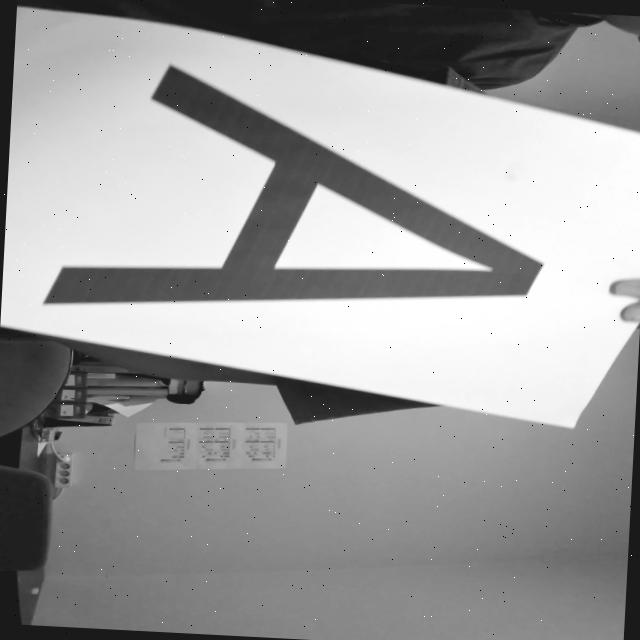a: (13, 42, 591, 355)
